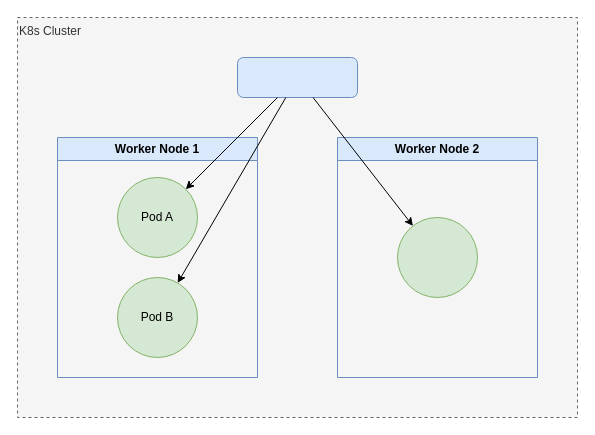
This 595x435 diagram has some shape labels left out. The shapes that lost their labels are listed below. From the top down, each one's centre as x and y in pixels, then its label:
At point (297, 77): "Service (ClusterIP)".
At point (437, 257): "Pod C".
